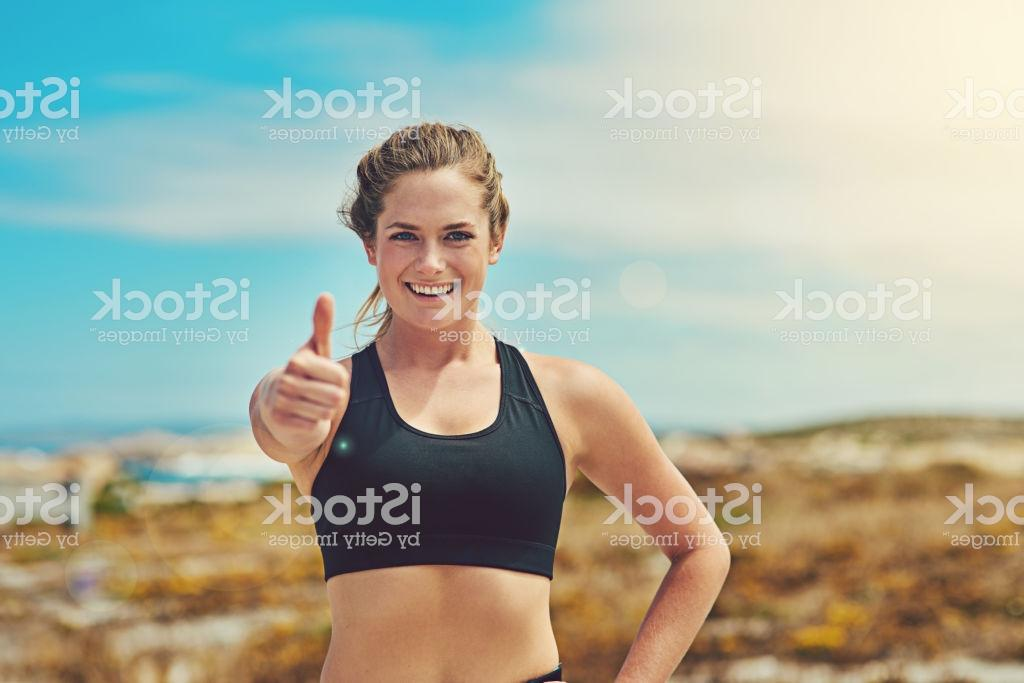thumbsup: (267, 290, 350, 436)
